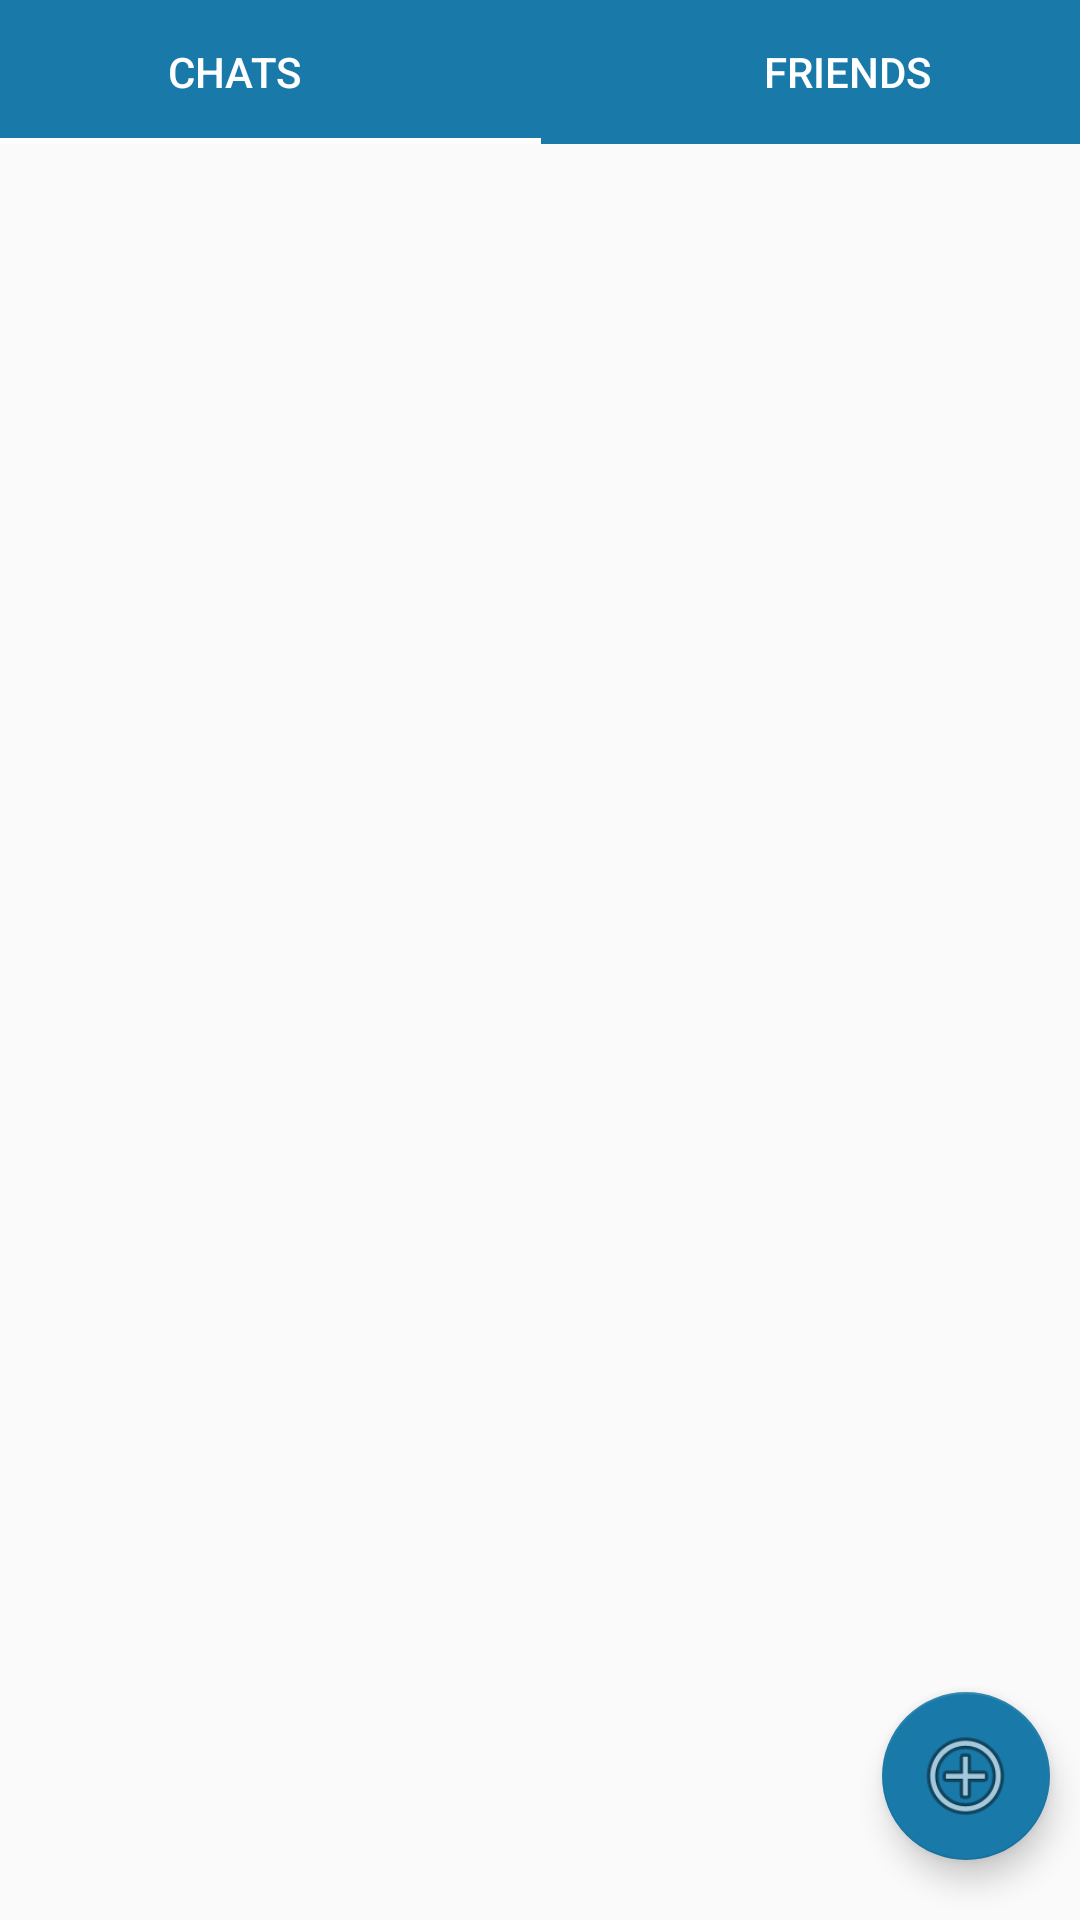

Named icons in this screenshot (1080 × 1920) and their bounding boxes, (x1, y1, x2, y2):
add: (882, 1692, 1050, 1860)
